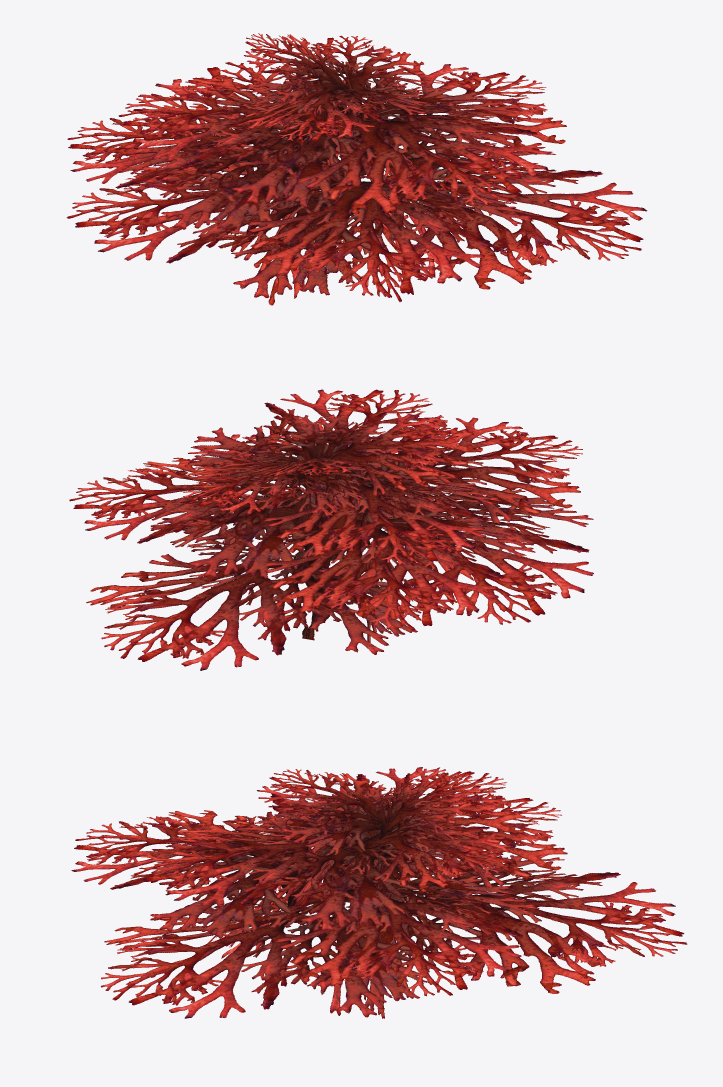
The model's file is Coral-Medium_LOD1.fbx.
3 views of the same model, one above another, from view 1: azimuth 30°, elevation 25°; view 2: azimuth 150°, elevation 25°; view 3: azimuth 270°, elevation 25° (orthographic). The views are drawn at different scales.
Visible parts, largest first — view 1: Coral-Medium_LOD1; view 2: Coral-Medium_LOD1; view 3: Coral-Medium_LOD1.
Boxes of the visible parts, x1,y1,x2,y2 form: Coral-Medium_LOD1: [66, 33, 647, 305]; Coral-Medium_LOD1: [69, 389, 593, 670]; Coral-Medium_LOD1: [71, 767, 687, 1018].
Bounding box in the file's own units: 0.7854 × 0.223 × 0.7654.
